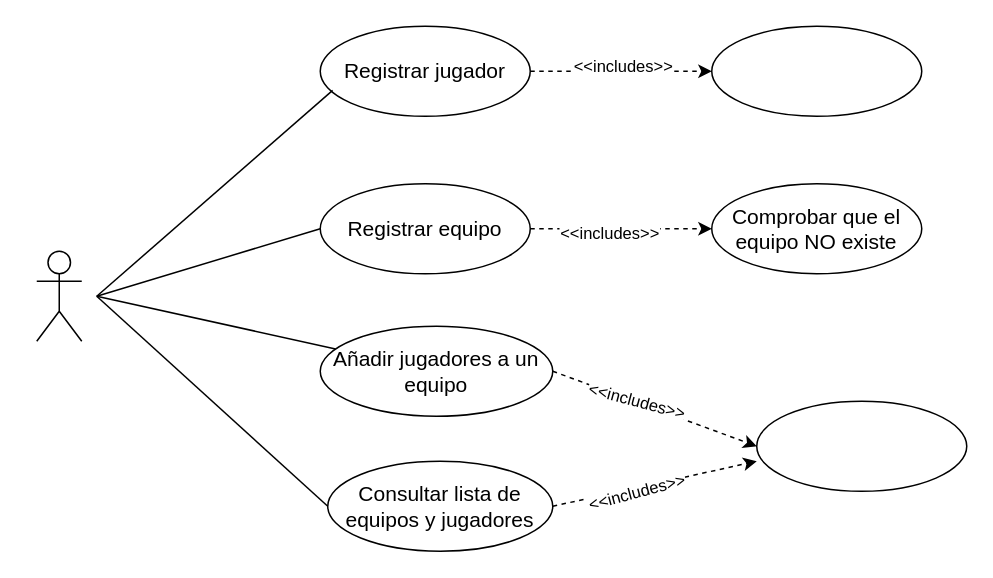
Some shapes in this 993 by 578 pixel diagram are drawn without their labels. The centre of each missing label's shape, as x and y in pixels:
ADMIN: point (58, 295)
Comprobar que el equipo existe: point (861, 445)
Comprobar que ese jugador NO existe: point (816, 70)
